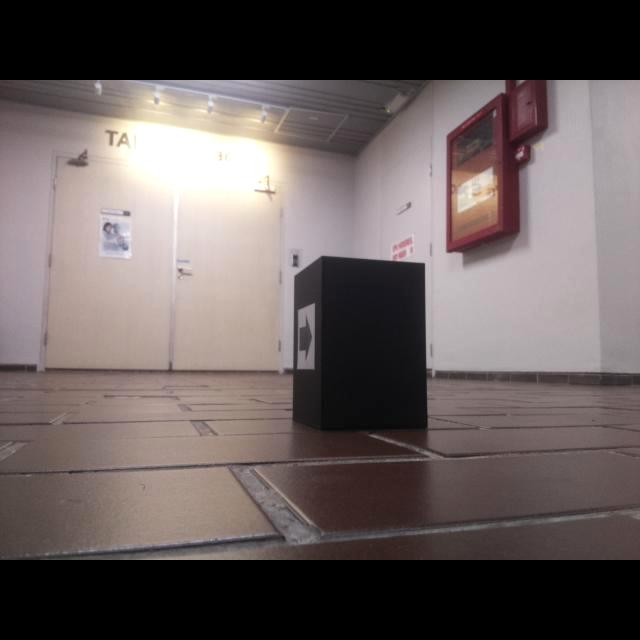RIGHT: (299, 314, 313, 362)
